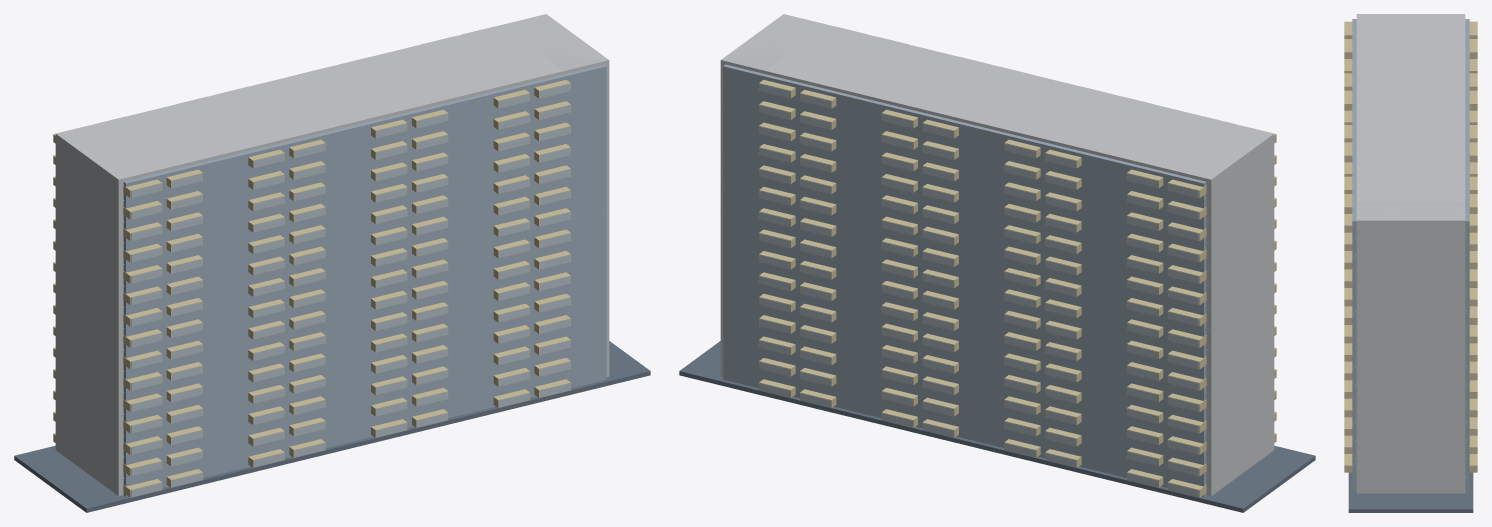
The model's file is building.glb.
The picture shows the model from 3 angles, left to right: view 1: azimuth 30°, elevation 25°; view 2: azimuth 150°, elevation 25°; view 3: azimuth 270°, elevation 25°; orthographic projection. The views are drawn at different scales.
Parts seen in each view (by area): view 1: world; view 2: world; view 3: world.
Boxes of the visible parts, box(x1,y1,x2,y2) form: world: box(14, 14, 650, 512); world: box(679, 14, 1315, 512); world: box(1344, 14, 1477, 512).
Bounding box in the file's own units: 82.8 × 45 × 19.68.
